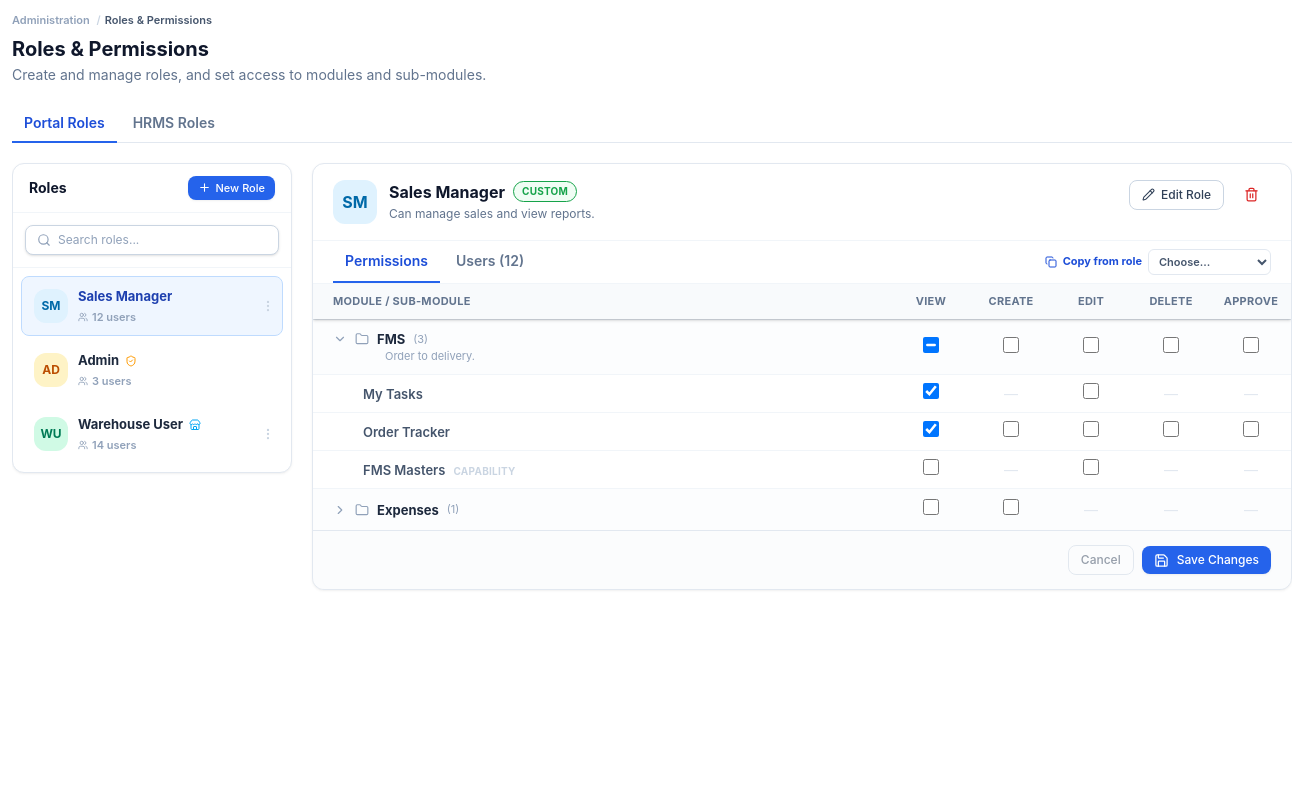
Test: editing and saving › Cancel throws the edit away and puts the button back to sleep
Check: the button "My Tasks" is shown, box top-left (363, 385), bottom-right (423, 404)
What coordinates should you click on to do the following:
click the checkbox named "Edit — FMS / My Tasks"
I would click on:
 (1091, 392)
Its box is top-left (1083, 384), bottom-right (1099, 400).
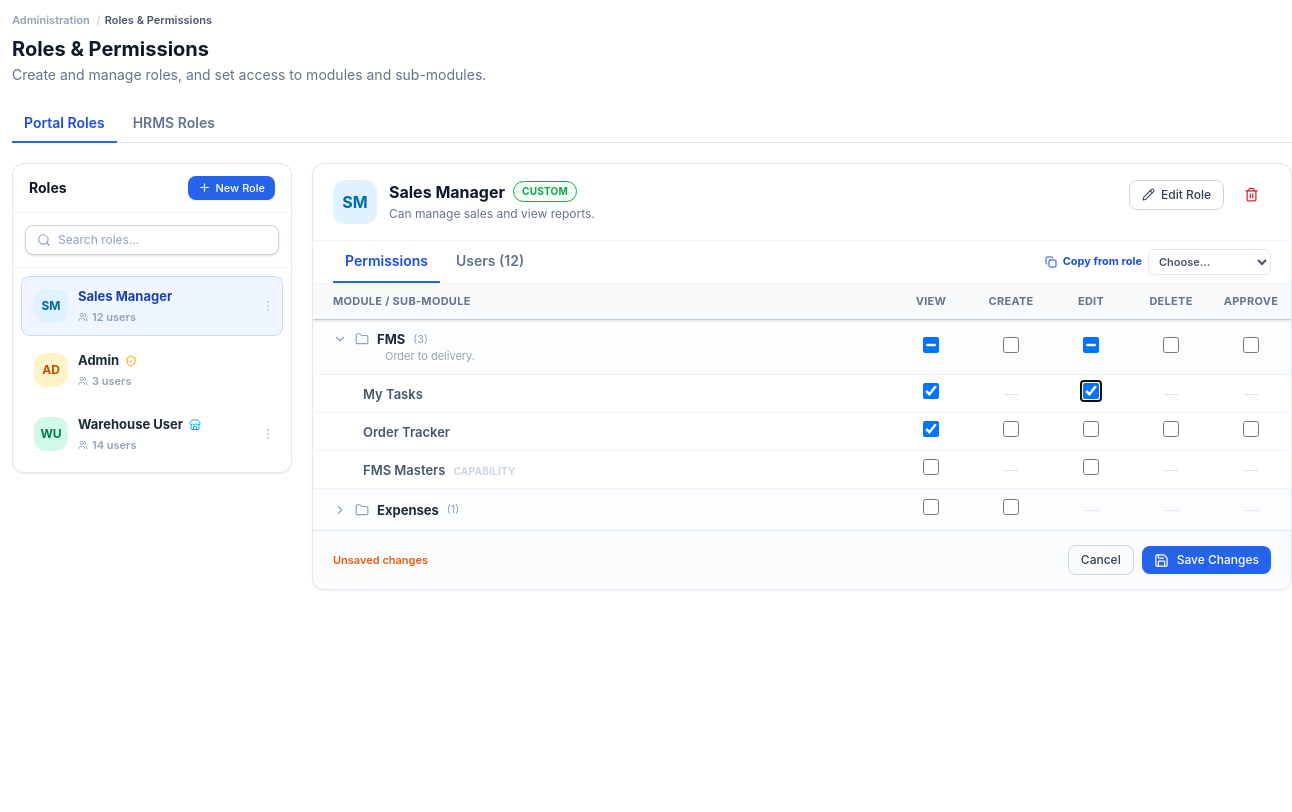
What coordinates should you click on to do the following:
click the button "Cancel"
I would click on:
 (1101, 560)
Its box is top-left (1068, 546), bottom-right (1134, 576).
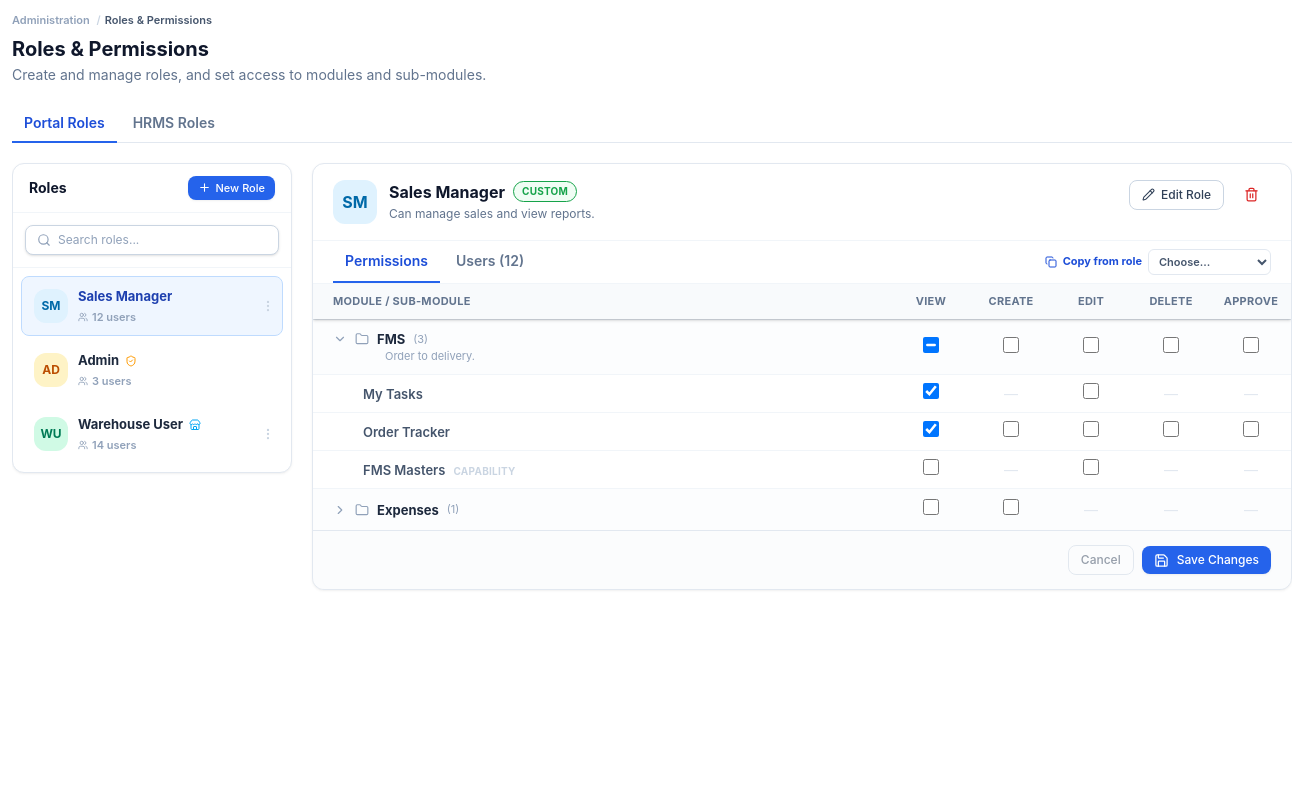
Check: the text "Unsaved changes" is gone
